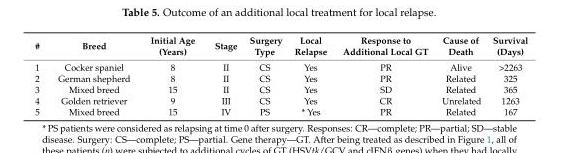table: (34, 34, 527, 116)
table column: (334, 34, 434, 116), (47, 34, 139, 116), (139, 34, 204, 116), (434, 34, 486, 116), (287, 34, 334, 116), (242, 34, 287, 116), (486, 34, 527, 116), (204, 34, 242, 116), (34, 34, 47, 116)
table column header: (34, 34, 527, 58)
table row: (34, 34, 527, 58), (34, 58, 527, 72), (34, 72, 527, 83), (34, 83, 527, 94), (34, 94, 527, 105), (34, 105, 527, 116)
